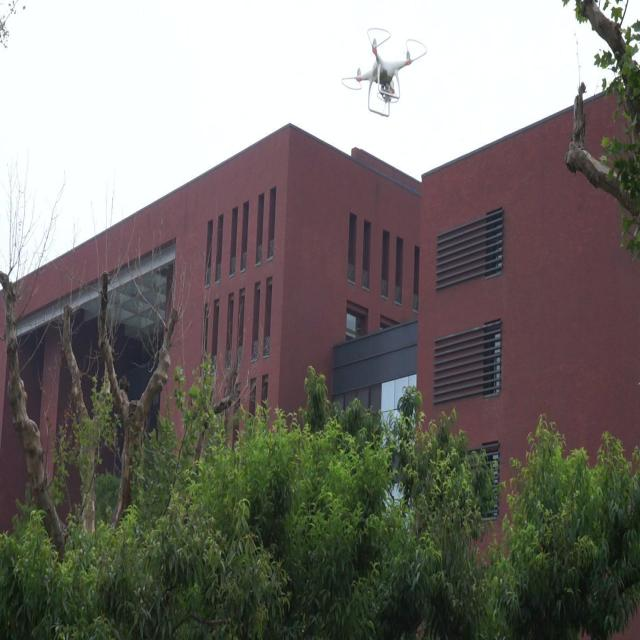UAV: (341, 27, 427, 117)
